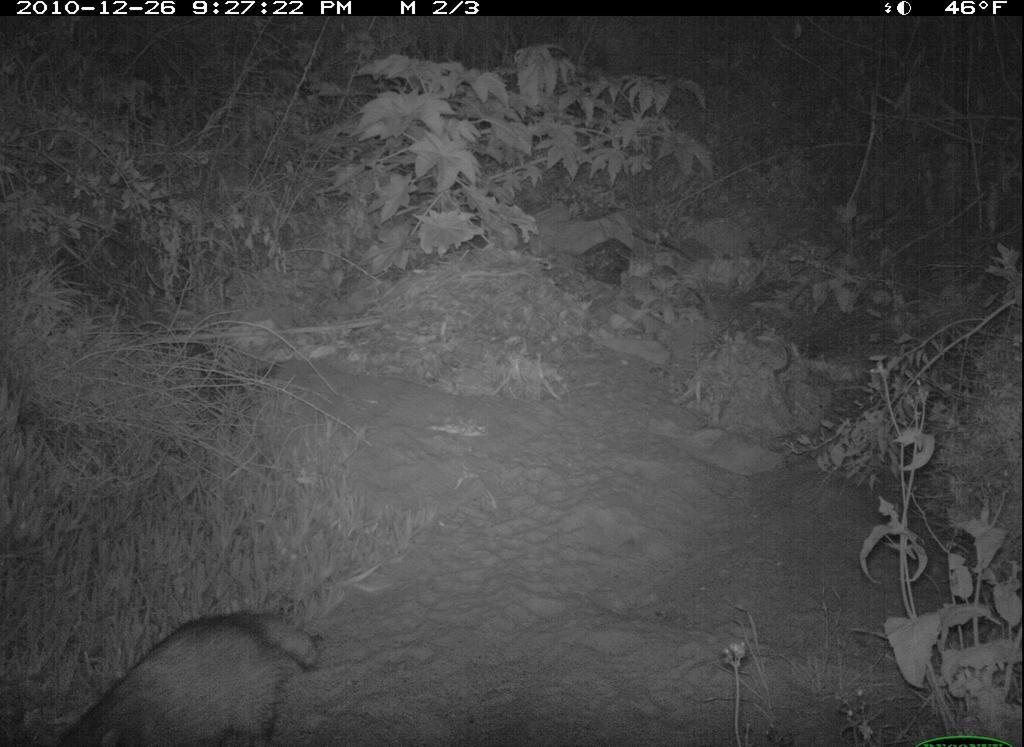raccoon: (47, 603, 331, 742)
